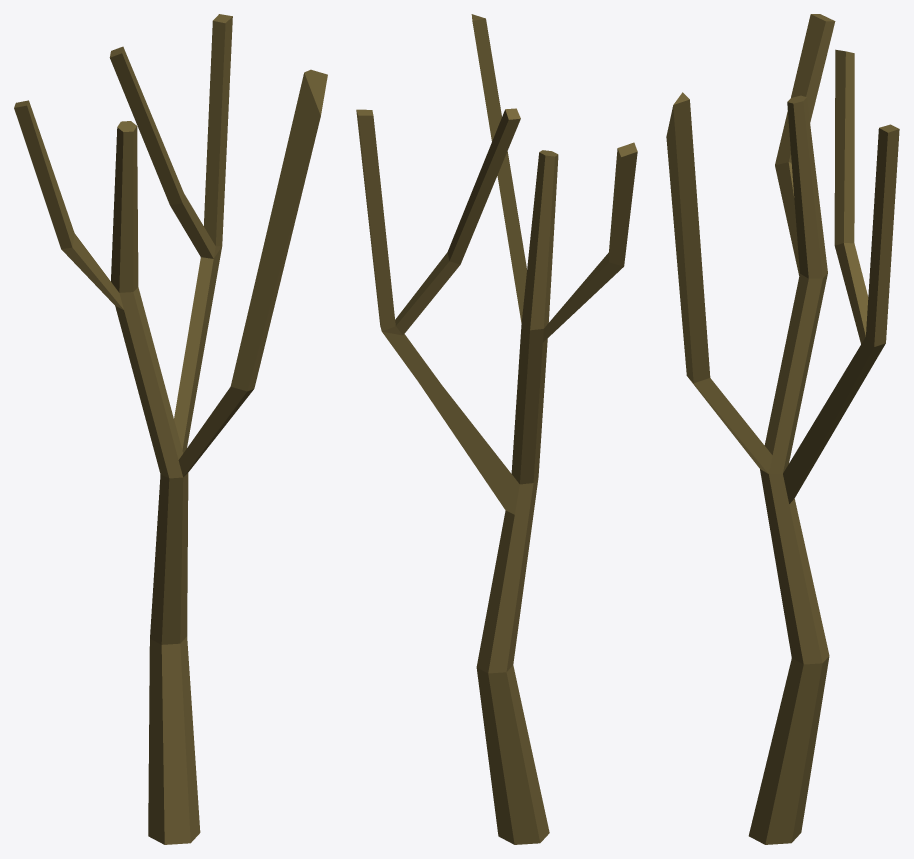
Rendered from Tree_Dry.fbx.
The picture shows the model from 3 angles, left to right: view 1: azimuth 30°, elevation 25°; view 2: azimuth 150°, elevation 25°; view 3: azimuth 270°, elevation 25°; orthographic projection. The views are drawn at different scales.
Visible parts, largest first — view 1: terraun_test:polySurface8; view 2: terraun_test:polySurface8; view 3: terraun_test:polySurface8.
Part boxes in pixels (x1,y1,x2,y2): terraun_test:polySurface8: (14,14,327,844); terraun_test:polySurface8: (356,14,637,844); terraun_test:polySurface8: (666,14,899,844).
Size of the model in its own units: 4.87 by 14.29 by 3.85.
